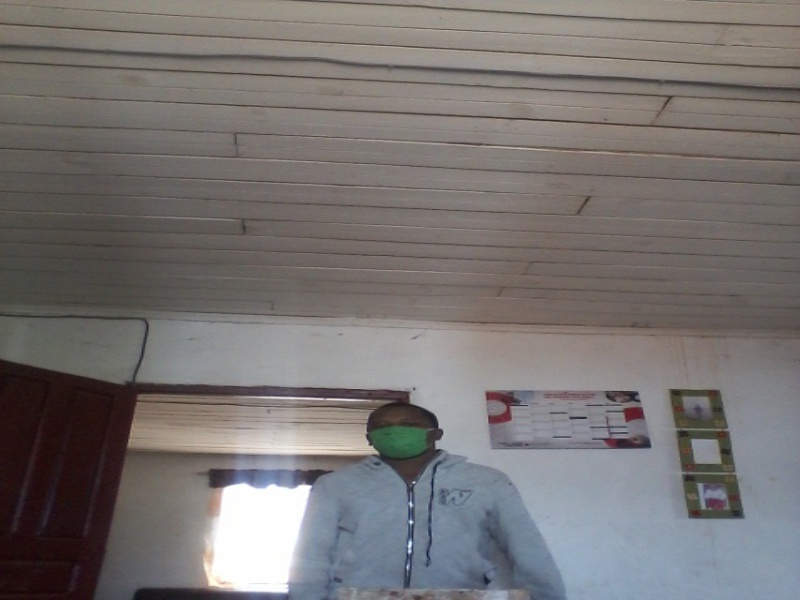ManaoArotava: (358, 394, 444, 471)
